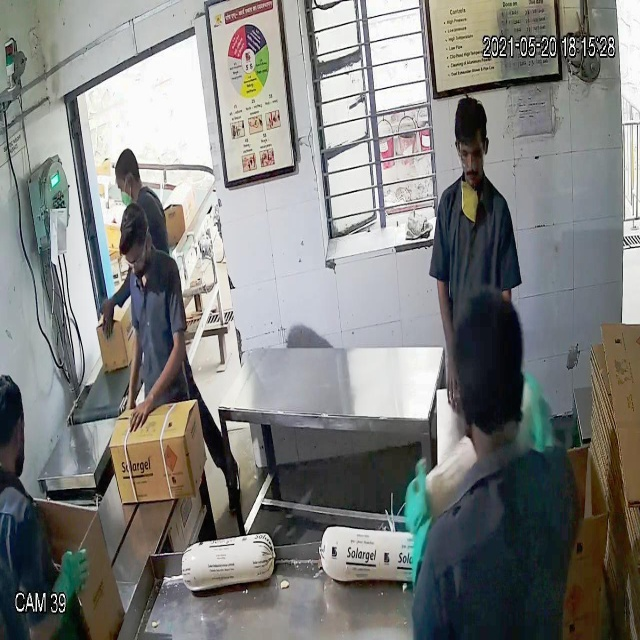Gafas: (454, 133, 491, 171), (119, 241, 150, 274)
